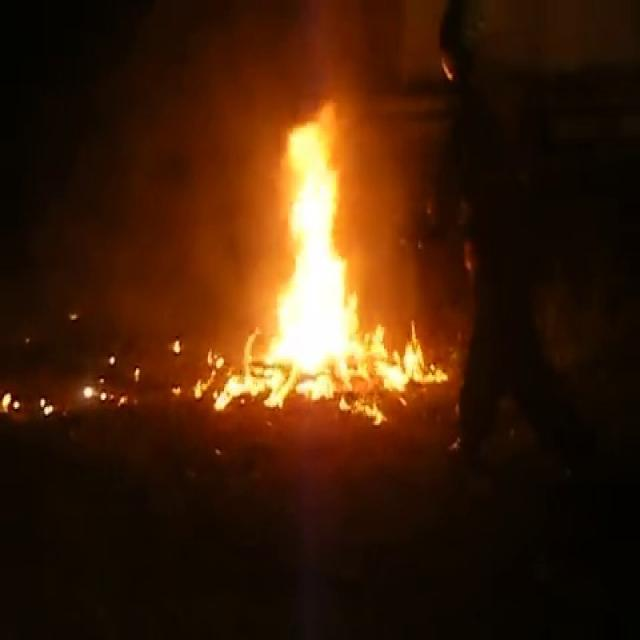Fire: (198, 87, 434, 411)
Smoke: (203, 0, 636, 110)
